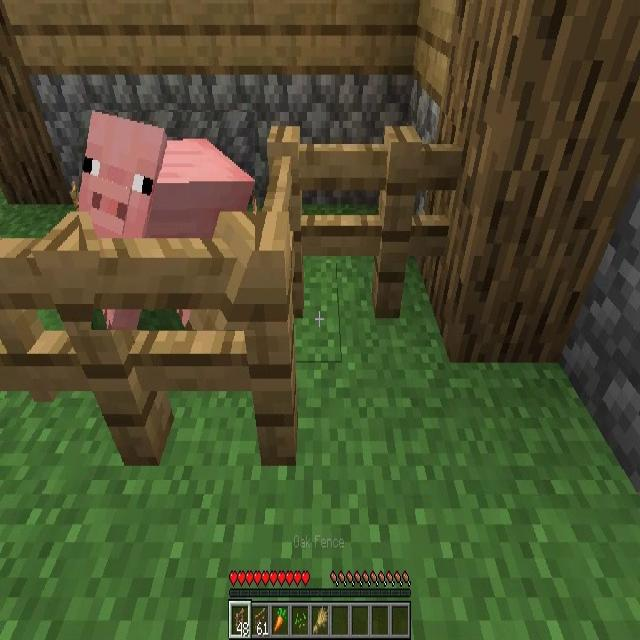pig: (79, 110, 255, 330)
